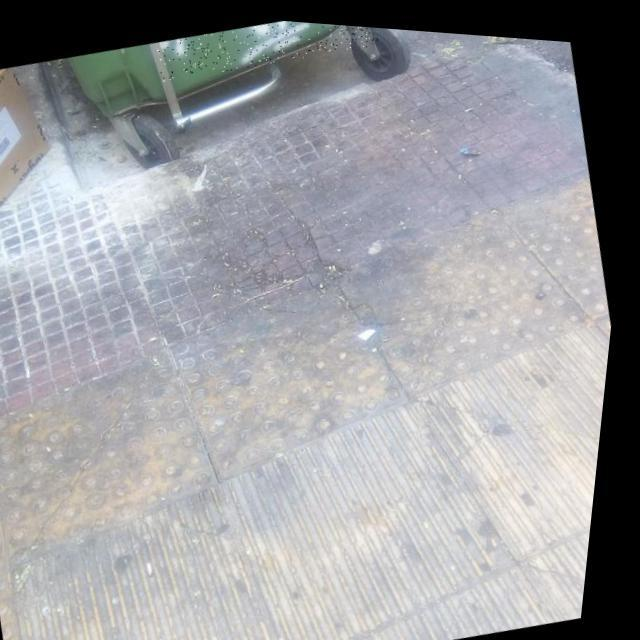-: (153, 10, 382, 91)
